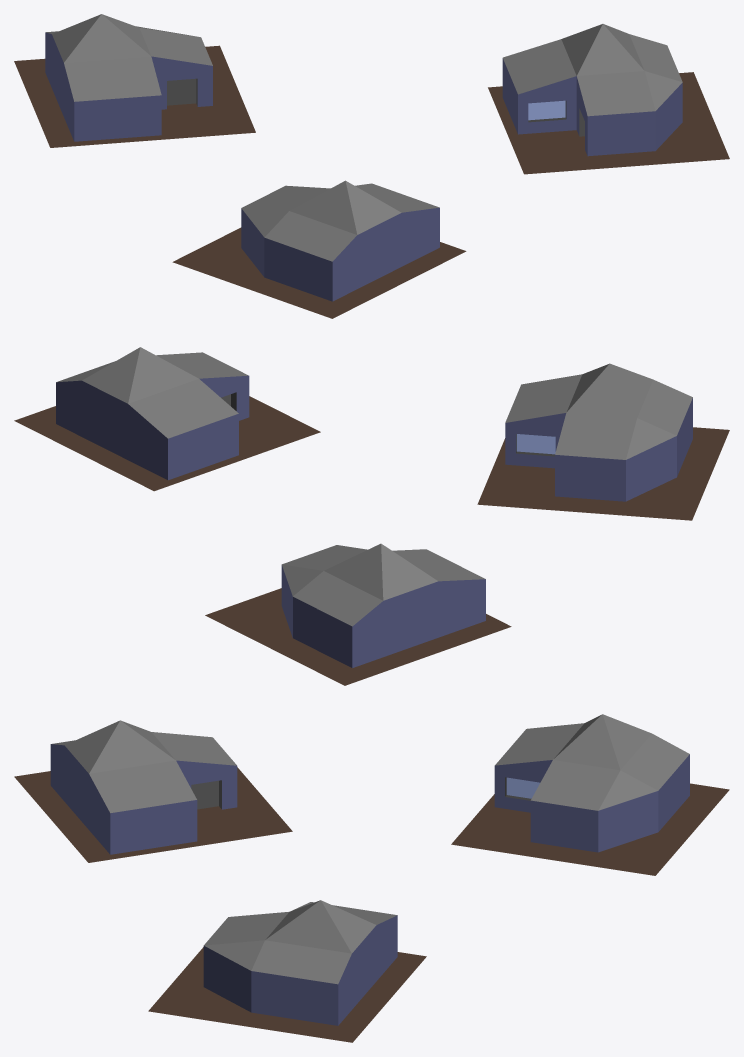
Rendered from armory.glb.
The picture shows the model from 3 angles, top to bottom: view 1: azimuth 30°, elevation 25°; view 2: azimuth 150°, elevation 25°; view 3: azimuth 270°, elevation 25°; orthographic projection. The views are drawn at different scales.
Parts seen in each view (by area): view 1: Cube.001, Cube.002, Cube.003; view 2: Cube.002, Cube.003, Cube.001; view 3: Cube.003, Cube.001, Cube.002.
Part boxes in pixels (x1,y1,x2,y2): Cube.001: (488, 24, 729, 174); Cube.002: (172, 180, 466, 318); Cube.003: (14, 14, 255, 147); Cube.002: (477, 363, 729, 520); Cube.003: (205, 543, 511, 685); Cube.001: (14, 347, 320, 491); Cube.003: (451, 714, 729, 875); Cube.001: (148, 900, 426, 1042); Cube.002: (14, 720, 292, 862).
Size of the model in its own units: 0.1294 by 0.018 by 0.1316.
